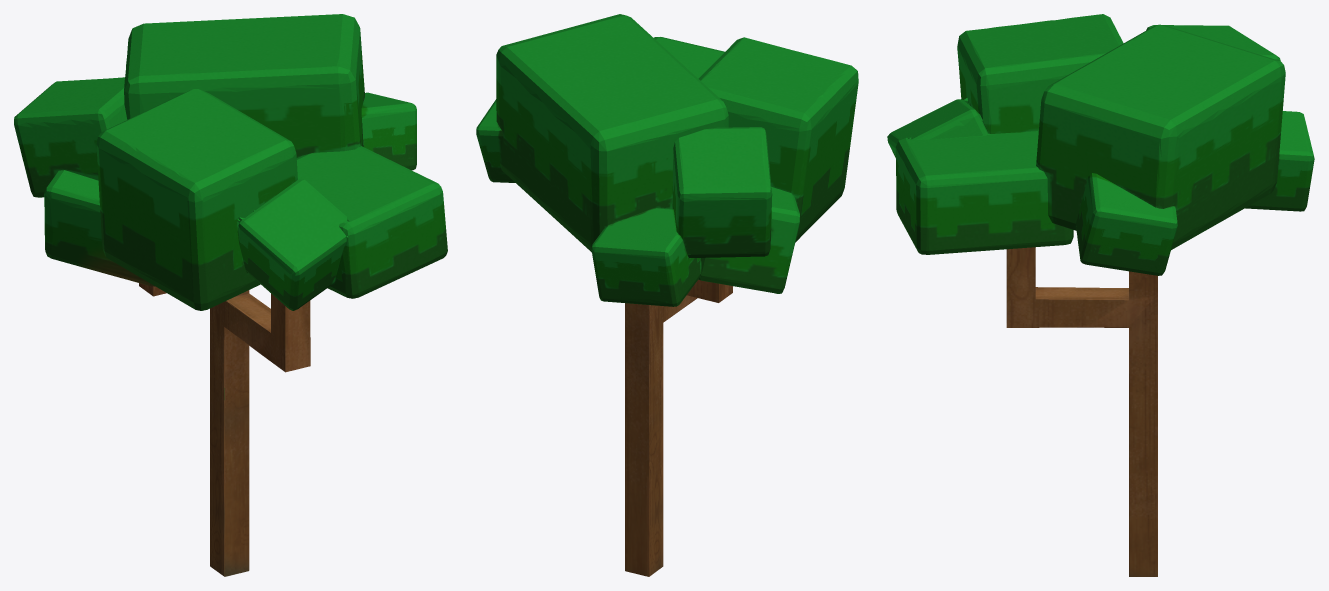
The model's file is tree.fbx.
The picture shows the model from 3 angles, left to right: view 1: azimuth 30°, elevation 25°; view 2: azimuth 150°, elevation 25°; view 3: azimuth 270°, elevation 25°; orthographic projection. The views are drawn at different scales.
Parts seen in each view (by area): view 1: Group49898; view 2: Group49898; view 3: Group49898.
Boxes of the visible parts, x1,y1,x2,y2 form: Group49898: (14,14,447,576); Group49898: (476,14,858,576); Group49898: (887,14,1314,576).
Bounding box in the file's own units: 13.41 × 19.74 × 14.75.
